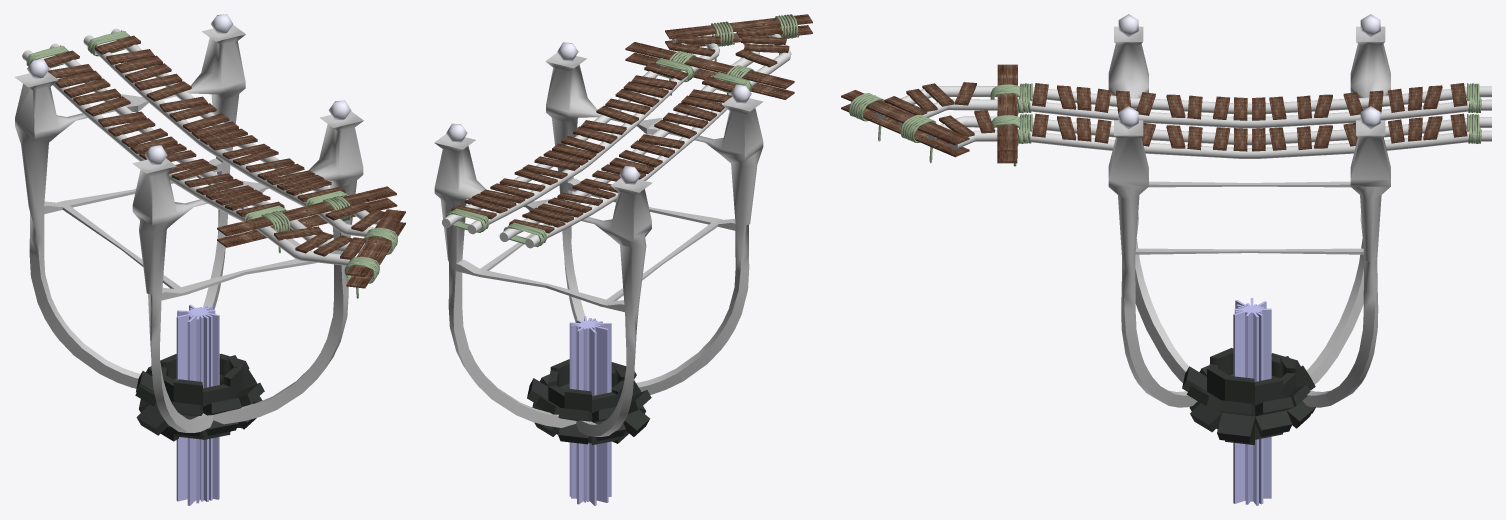
File: 2_bridge_right.fbx
The picture shows the model from 3 angles, left to right: view 1: azimuth 30°, elevation 25°; view 2: azimuth 150°, elevation 25°; view 3: azimuth 270°, elevation 25°; orthographic projection. The views are drawn at different scales.
Parts seen in each view (by area): view 1: 2_right_base, gravityring, 2_right_LaR, 2_right_LaL, 2_right_verschlag02, 2_right_LaL_c, 2_right_verschlag, 2_right_LaR_c, 2_right_verschlag_ropes, 2_right_LaR_ropes, 2_right_ropevertical, 2_right_LaL_ropes; view 2: 2_right_base, gravityring, 2_right_LaR, 2_right_LaL, 2_right_verschlag02, 2_right_LaL_c, 2_right_verschlag, 2_right_LaR_c, 2_right_verschlag_ropes, 2_right_LaR_ropes, 2_right_LaL_ropes, 2_right_ropevertical; view 3: 2_right_base, gravityring, 2_right_LaL, 2_right_LaR, 2_right_LaL_c, 2_right_verschlag, 2_right_verschlag02, 2_right_LaR_c, 2_right_verschlag_ropes, 2_right_LaR_ropes, 2_right_LaL_ropes.
Part boxes in pixels (bbox=[...]): 2_right_base: bbox=[14, 14, 363, 432]; gravityring: bbox=[135, 304, 264, 505]; 2_right_LaR: bbox=[83, 28, 345, 216]; 2_right_LaL: bbox=[22, 43, 284, 231]; 2_right_verschlag02: bbox=[217, 186, 397, 247]; 2_right_LaL_c: bbox=[258, 219, 366, 265]; 2_right_verschlag: bbox=[346, 209, 405, 288]; 2_right_LaR_c: bbox=[319, 201, 385, 236]; 2_right_verschlag_ropes: bbox=[344, 227, 397, 298]; 2_right_LaR_ropes: bbox=[87, 30, 348, 215]; 2_right_ropevertical: bbox=[261, 196, 351, 252]; 2_right_LaL_ropes: bbox=[26, 45, 287, 230]; 2_right_base: bbox=[434, 42, 763, 436]; gravityring: bbox=[527, 316, 651, 505]; 2_right_LaR: bbox=[442, 62, 698, 234]; 2_right_LaL: bbox=[499, 77, 755, 248]; 2_right_verschlag02: bbox=[625, 42, 794, 99]; 2_right_LaL_c: bbox=[731, 26, 791, 84]; 2_right_verschlag: bbox=[665, 14, 812, 49]; 2_right_LaR_c: bbox=[669, 34, 720, 69]; 2_right_verschlag_ropes: bbox=[711, 14, 798, 61]; 2_right_LaR_ropes: bbox=[446, 57, 694, 232]; 2_right_LaL_ropes: bbox=[503, 72, 752, 247]; 2_right_ropevertical: bbox=[667, 51, 753, 95]; 2_right_base: bbox=[1108, 14, 1390, 407]; gravityring: bbox=[1182, 298, 1315, 505]; 2_right_LaL: bbox=[1017, 83, 1491, 128]; 2_right_LaR: bbox=[1017, 113, 1491, 158]; 2_right_LaL_c: bbox=[876, 82, 997, 126]; 2_right_verschlag: bbox=[841, 90, 969, 157]; 2_right_verschlag02: bbox=[997, 64, 1017, 163]; 2_right_LaR_c: bbox=[927, 110, 997, 149]; 2_right_verschlag_ropes: bbox=[849, 93, 936, 163]; 2_right_LaR_ropes: bbox=[1017, 114, 1481, 143]; 2_right_LaL_ropes: bbox=[1017, 83, 1481, 113].
Size of what is drawn, in the model's own units: 64 by 117 by 161.
Materials: 7 (1 with a texture image).
